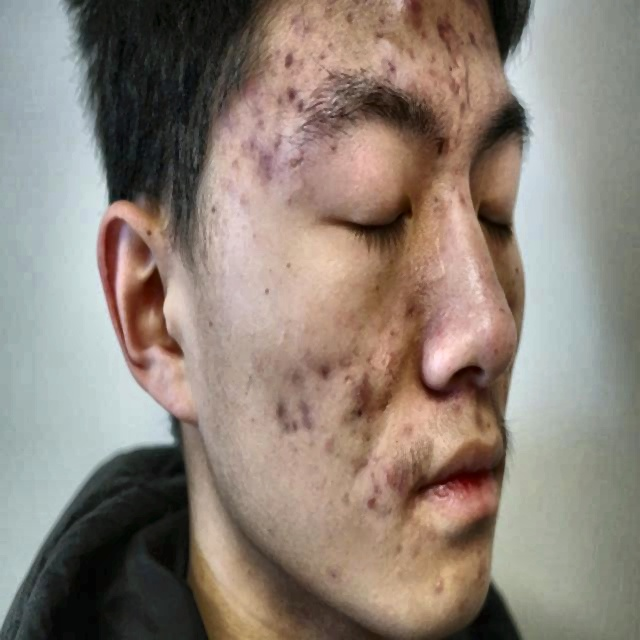pustule: (432, 14, 459, 53), (350, 371, 378, 408), (396, 1, 427, 34), (357, 488, 382, 526), (385, 456, 407, 492), (267, 395, 293, 423), (313, 355, 332, 382), (258, 140, 268, 178), (304, 400, 314, 428), (243, 131, 253, 153)
